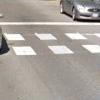crosswalk: (3, 32, 99, 55)
